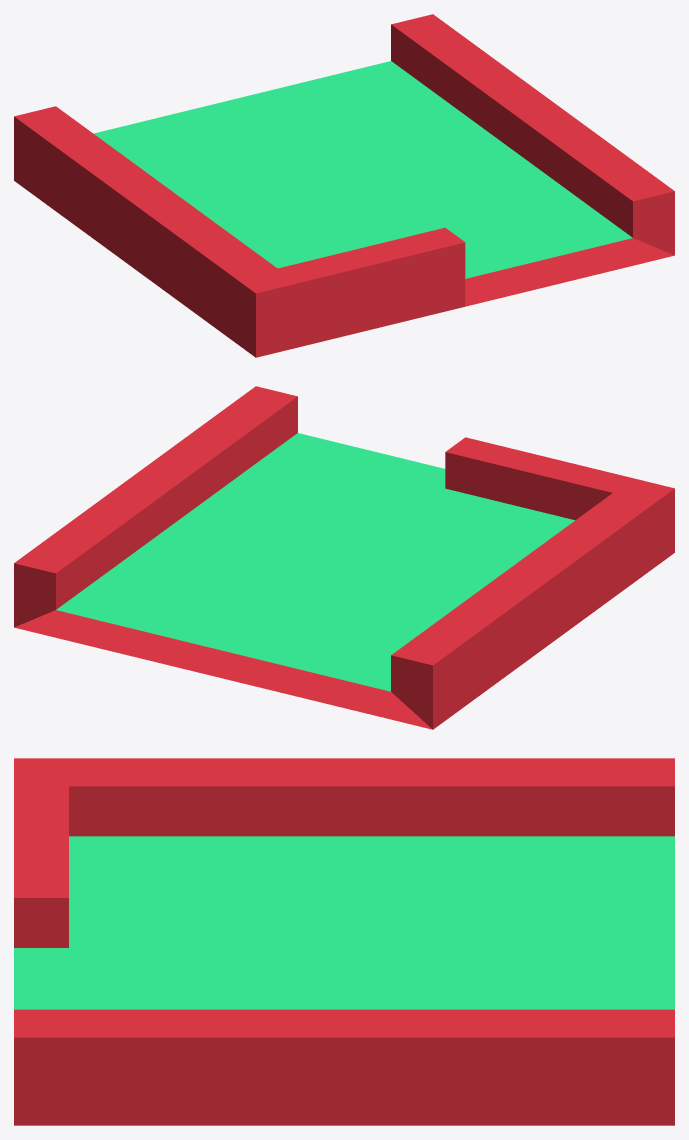
The model's file is wallLeft.fbx.
3 views of the same model, one above another, from view 1: azimuth 30°, elevation 25°; view 2: azimuth 150°, elevation 25°; view 3: azimuth 270°, elevation 25° (orthographic). The views are drawn at different scales.
Parts seen in each view (by area): view 1: wallLeft; view 2: wallLeft; view 3: wallLeft.
Part boxes in pixels (x1,y1,x2,y2): wallLeft: (14,14,674,357); wallLeft: (14,386,674,729); wallLeft: (14,758,674,1125).
Bounding box in the file's own units: 99.99 × 99.99 × 14.67.
